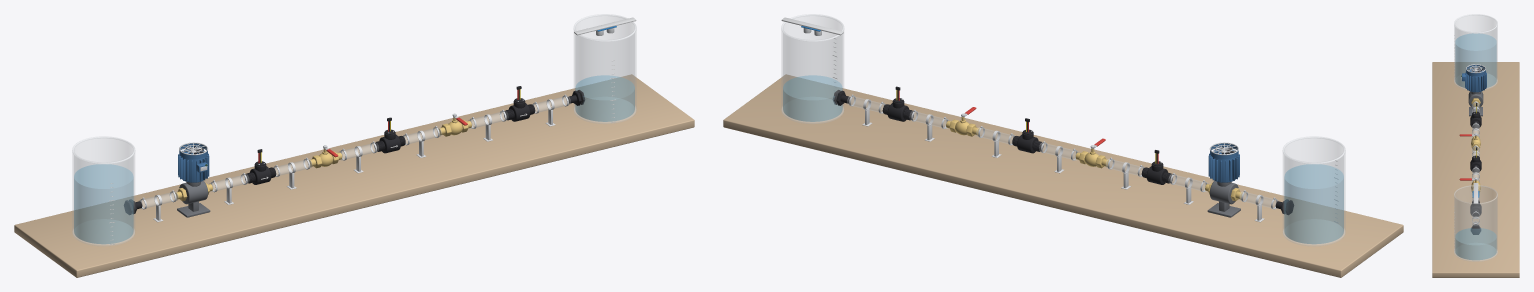
Rendered from swampds.glb.
The picture shows the model from 3 angles, left to right: view 1: azimuth 30°, elevation 25°; view 2: azimuth 150°, elevation 25°; view 3: azimuth 270°, elevation 25°; orthographic projection. The views are drawn at different scales.
Visible parts, largest first — view 1: Base_Board, Tank_Source, Tank_Delivery, Water_Source, Water_Delivery, Pump_Body, Pipe_Supports, Hose_Clamps, Sensor_F1, Sensor_F3, Sensor_F2; view 2: Base_Board, Tank_Source, Tank_Delivery, Water_Source, Water_Delivery, Pump_Body, Pipe_Supports, Hose_Clamps, Sensor_F3, Sensor_F1, Sensor_F2, Valve_B; view 3: Base_Board, Tank_Delivery, Tank_Source, Water_Source, Water_Delivery, Pump_Body, Sensor_F1, Sensor_F2, Hose_Clamps, Sensor_F3, Pump_Grille, Pipe_Supports (+5 smaller).
Part boxes in pixels (x1,y1,x2,y2): Base_Board: (14, 74, 694, 277); Tank_Source: (72, 136, 135, 246); Tank_Delivery: (573, 14, 636, 123); Water_Source: (74, 164, 133, 243); Water_Delivery: (575, 75, 634, 121); Pump_Body: (175, 143, 212, 204); Pipe_Supports: (153, 99, 555, 222); Hose_Clamps: (140, 94, 568, 209); Sensor_F1: (245, 149, 276, 184); Sensor_F3: (504, 86, 535, 121); Sensor_F2: (374, 117, 405, 153); Base_Board: (723, 74, 1403, 277); Tank_Source: (1282, 136, 1345, 246); Tank_Delivery: (781, 14, 844, 123); Water_Source: (1284, 164, 1343, 243); Water_Delivery: (783, 75, 842, 121); Pump_Body: (1205, 143, 1242, 204); Pipe_Supports: (862, 99, 1264, 222); Hose_Clamps: (849, 94, 1277, 209); Sensor_F3: (882, 86, 913, 121); Sensor_F1: (1141, 150, 1172, 184); Sensor_F2: (1012, 118, 1043, 153); Valve_B: (946, 117, 979, 136); Base_Board: (1432, 62, 1519, 277); Tank_Delivery: (1454, 185, 1497, 261); Tank_Source: (1454, 14, 1497, 89); Water_Source: (1455, 33, 1496, 87); Water_Delivery: (1455, 228, 1496, 259); Pump_Body: (1461, 65, 1486, 107); Sensor_F1: (1470, 103, 1481, 128); Sensor_F2: (1470, 147, 1481, 172); Hose_Clamps: (1472, 101, 1479, 225); Sensor_F3: (1470, 200, 1481, 216); Pump_Grille: (1466, 64, 1485, 73); Pipe_Supports: (1472, 107, 1479, 224).
Size of the model in its own units: 14.8 by 2.13 by 2.6.
